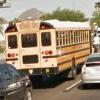Bus: (6, 14, 93, 82)
